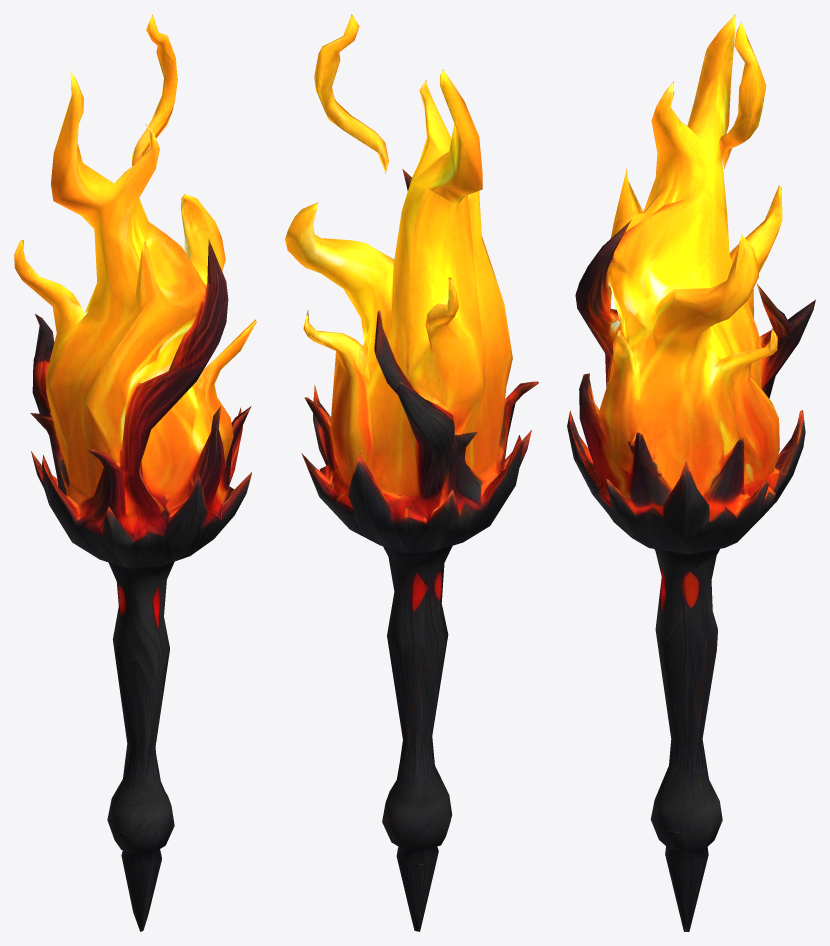
File: prop-torch-glow.glb
3 views of the same model, side by side, from view 1: azimuth 30°, elevation 25°; view 2: azimuth 150°, elevation 25°; view 3: azimuth 270°, elevation 25° (orthographic). The views are drawn at different scales.
Size of the model in its own units: 0.4723 by 2 by 0.4851.
1 material, 1 textured.
